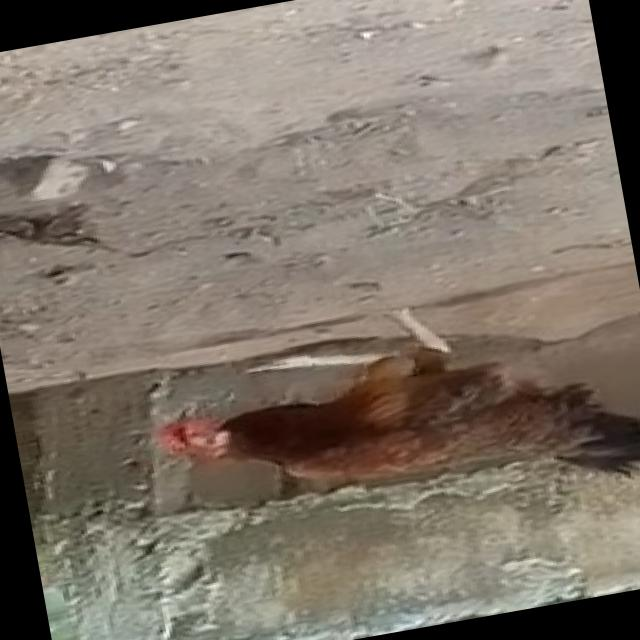stand bath: (132, 259, 640, 582)
